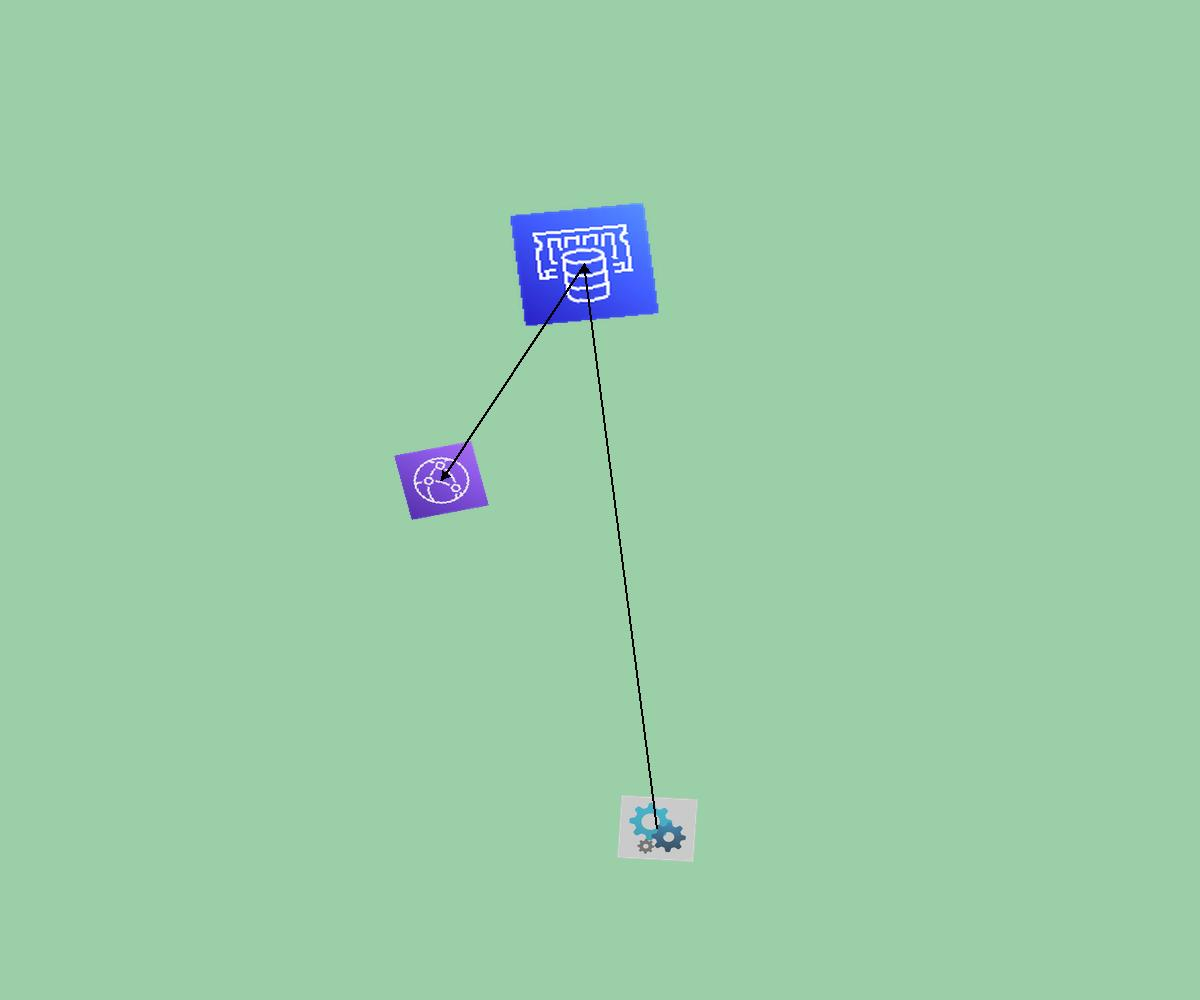AWS-CloudFront: (394, 441, 489, 520)
AWS-ElastiCache: (509, 202, 660, 327)
Azure_api: (617, 795, 698, 862)
